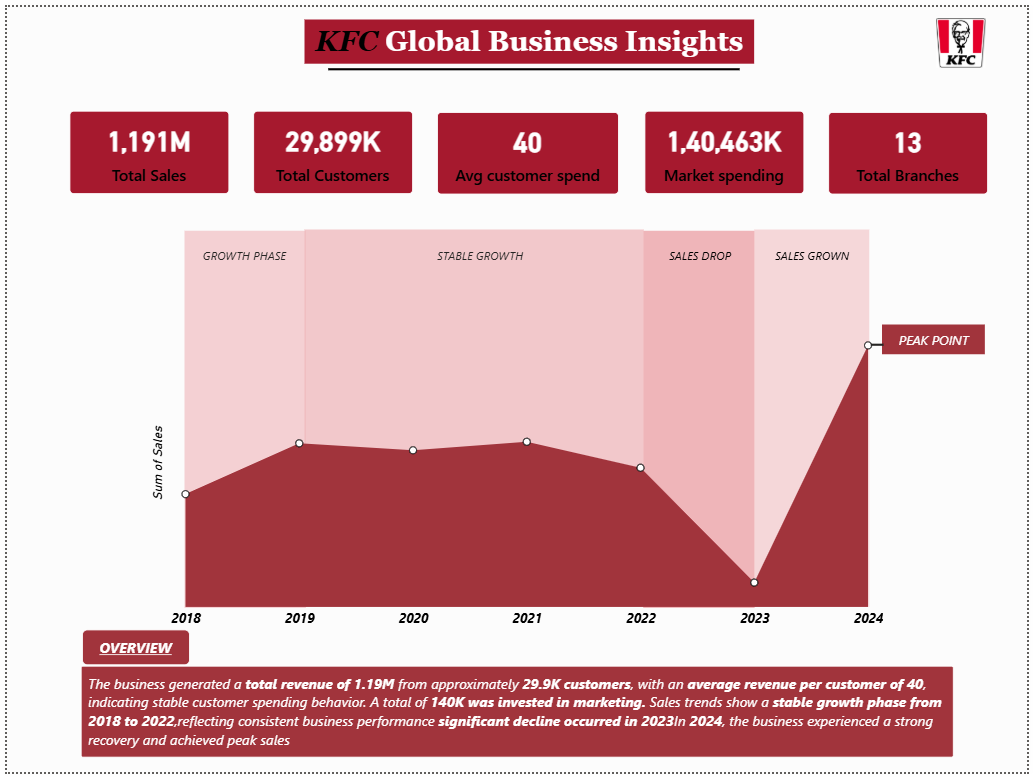

What the dashboard file says about the page in this screenshot:
{"tool":"powerbi","page":{"name":"overview","canvas":[960,720],"ordinal":0},"visuals":[{"type":"shape","box":[167.3,210.3,114.2,355],"z":0},{"type":"shape","box":[280.3,209.9,319.4,355.1],"z":1000},{"type":"shape","box":[598.8,210,105,355],"z":2000},{"type":"shape","box":[703.5,209.9,108.3,355.1],"z":3000},{"type":"textbox","box":[280,11.7,423.3,41.7],"z":4000},{"type":"image","box":[872.5,10,50,46.2],"z":5000},{"type":"shape","box":[302.5,42.5,387.5,32.5],"z":6000},{"type":"card","fields":{"Values":["Sum(KFC_Past_Sales_Dataset.Sales)"]},"box":[58.8,97.5,150,78.8],"z":7000},{"type":"card","fields":{"Values":["Count(KFC_Past_Sales_Dataset.Branch_ID)"]},"box":[772.5,98.8,150,77.5],"z":8000},{"type":"card","fields":{"Values":["KFC_Past_Sales_Dataset.AOV"]},"box":[405,98.8,171.2,77.5],"z":9000},{"type":"card","fields":{"Values":["Sum(KFC_Past_Sales_Dataset.Marketing_Spend)"]},"box":[600,97.5,150,78.8],"z":10000},{"type":"card","fields":{"Values":["Sum(KFC_Past_Sales_Dataset.Customers)"]},"box":[231.2,97.5,150,78.8],"z":11000},{"type":"areaChart","fields":{"Category":["KFC_Past_Sales_Dataset.Year"],"Y":["Sum(KFC_Past_Sales_Dataset.Sales)"]},"box":[130.5,281.4,699,312.7],"z":12000},{"type":"textbox","box":[610.8,218.9,83.7,38],"z":13000},{"type":"textbox","box":[706.8,218.9,101.6,27.9],"z":14000},{"type":"textbox","box":[393.8,218.8,102.5,27.5],"z":15000},{"type":"textbox","box":[172.5,218.8,101.2,27.5],"z":16000},{"type":"textbox","box":[824.1,299.3,97.1,27.9],"z":17000},{"type":"shape","box":[812.9,300.4,12.3,35.7],"z":18000},{"type":"textbox","box":[69.4,620,821.2,86.2],"z":19000},{"type":"textbox","box":[70,586.2,101.2,33.8],"z":20000}]}

Visuals, with their boxes in screenshot pixels (x1, y1, x2, y2), scaled from the page's 960x720 canvas onto the 1033x777 screenshot:
shape: bbox=[180, 227, 303, 610]
shape: bbox=[302, 227, 645, 610]
shape: bbox=[644, 227, 757, 610]
shape: bbox=[757, 227, 874, 610]
textbox: bbox=[301, 13, 757, 58]
image: bbox=[939, 11, 993, 61]
shape: bbox=[326, 46, 742, 81]
card - Sum(KFC_Past_Sales_Dataset.Sales): bbox=[63, 105, 225, 190]
card - Count(KFC_Past_Sales_Dataset.Branch_ID): bbox=[831, 107, 993, 190]
card - KFC_Past_Sales_Dataset.AOV: bbox=[436, 107, 620, 190]
card - Sum(KFC_Past_Sales_Dataset.Marketing_Spend): bbox=[646, 105, 807, 190]
card - Sum(KFC_Past_Sales_Dataset.Customers): bbox=[249, 105, 410, 190]
areaChart - KFC_Past_Sales_Dataset.Year x Sum(KFC_Past_Sales_Dataset.Sales): bbox=[140, 304, 893, 641]
textbox: bbox=[657, 236, 747, 277]
textbox: bbox=[761, 236, 870, 266]
textbox: bbox=[424, 236, 534, 266]
textbox: bbox=[186, 236, 295, 266]
textbox: bbox=[887, 323, 991, 353]
shape: bbox=[875, 324, 888, 363]
textbox: bbox=[75, 669, 958, 762]
textbox: bbox=[75, 633, 184, 669]
